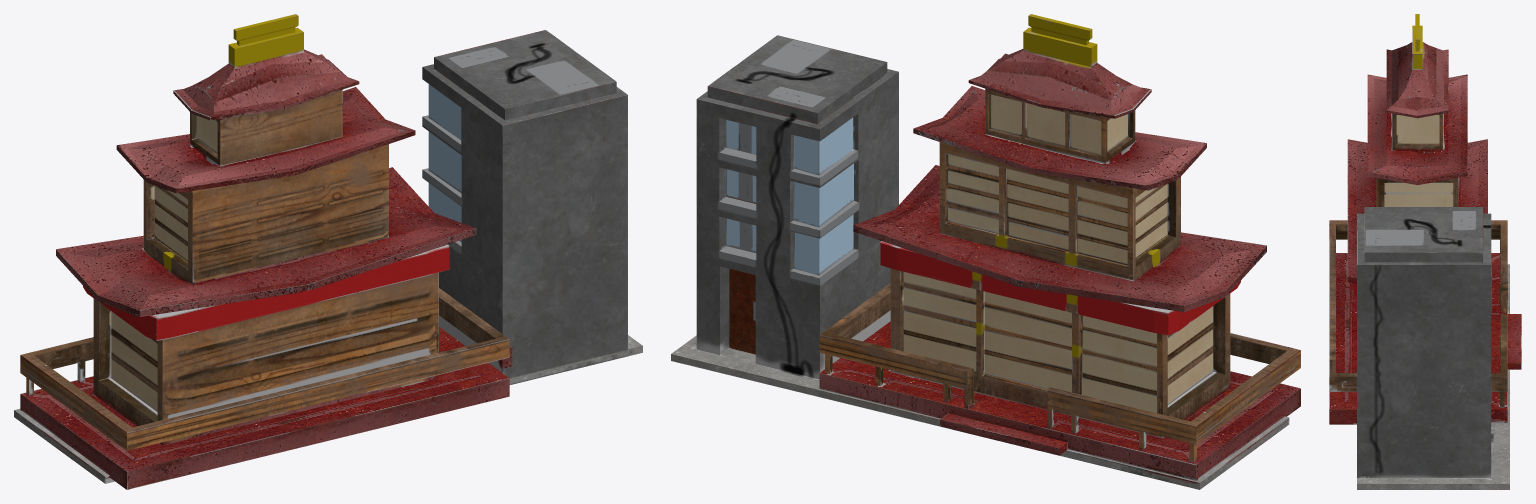
The model's file is BatimentVille_3.fbx.
The picture shows the model from 3 angles, left to right: view 1: azimuth 30°, elevation 25°; view 2: azimuth 150°, elevation 25°; view 3: azimuth 270°, elevation 25°; orthographic projection. The views are drawn at different scales.
Visible parts, largest first — view 1: Batiments3; view 2: Batiments3; view 3: Batiments3.
Boxes of the visible parts, bbox=[...] form: Batiments3: bbox=[14, 14, 642, 489]; Batiments3: bbox=[671, 14, 1300, 489]; Batiments3: bbox=[1329, 14, 1521, 489].
Bounding box in the file's own units: 1599 × 1100 × 592.
1 material, 1 textured.
